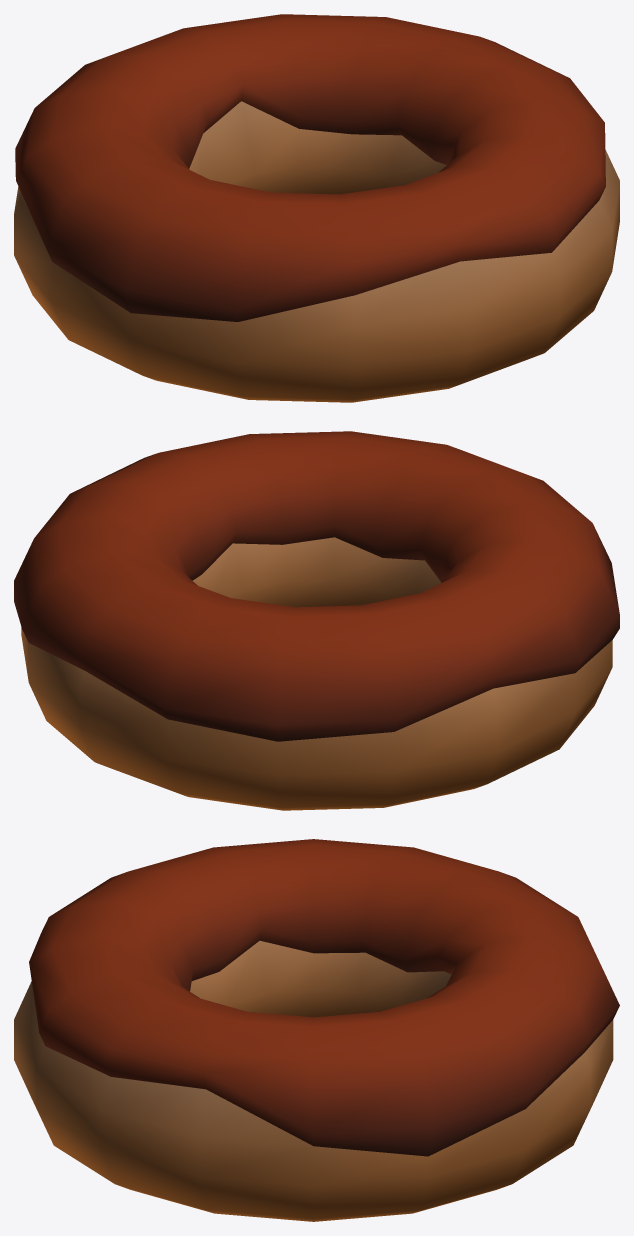
The model's file is Donut_002.glb.
3 renders of one model, top to bottom at view 1: azimuth 30°, elevation 25°; view 2: azimuth 150°, elevation 25°; view 3: azimuth 270°, elevation 25°, orthographic. The views are drawn at different scales.
Parts seen in each view (by area): view 1: geometry_0; view 2: geometry_0; view 3: geometry_0.
Part boxes in pixels (x1,y1,x2,y2): geometry_0: (14, 14, 619, 402); geometry_0: (14, 431, 619, 810); geometry_0: (14, 839, 619, 1221).
Size of the model in its own units: 0.1067 by 0.0363 by 0.1055.
Materials: 1 (1 with a texture image).
